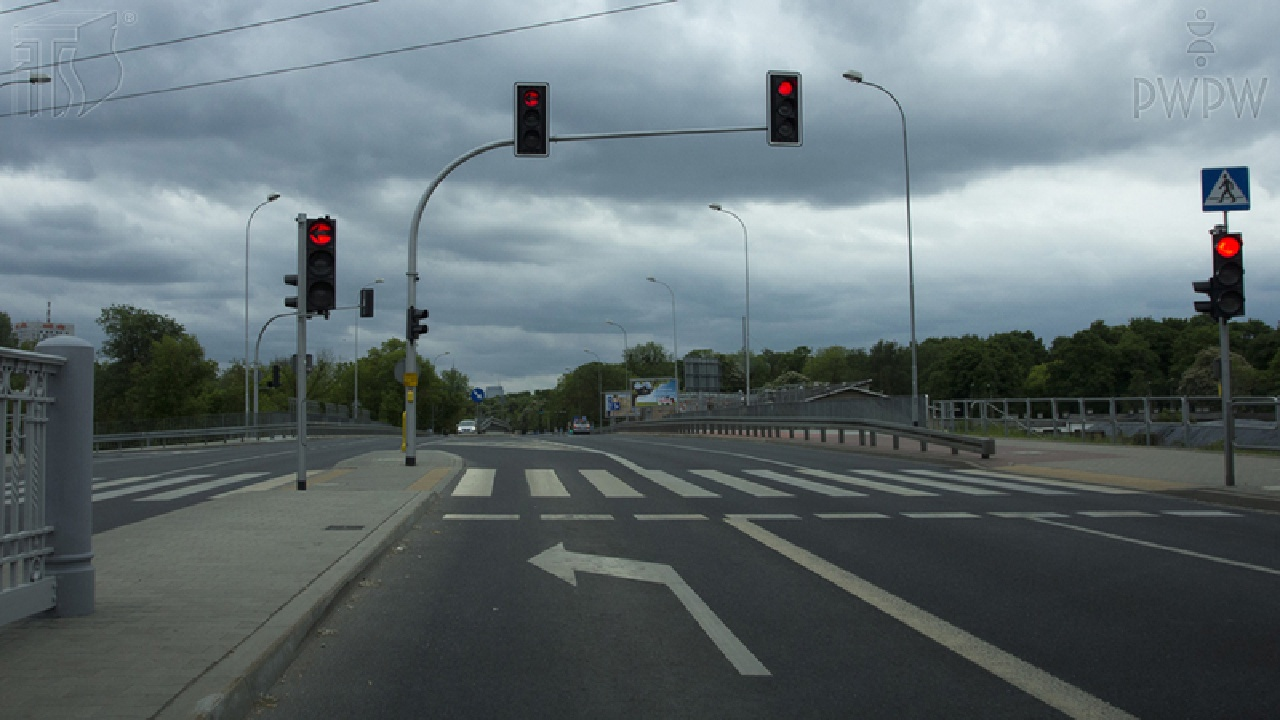D6: (1198, 162, 1254, 215)
